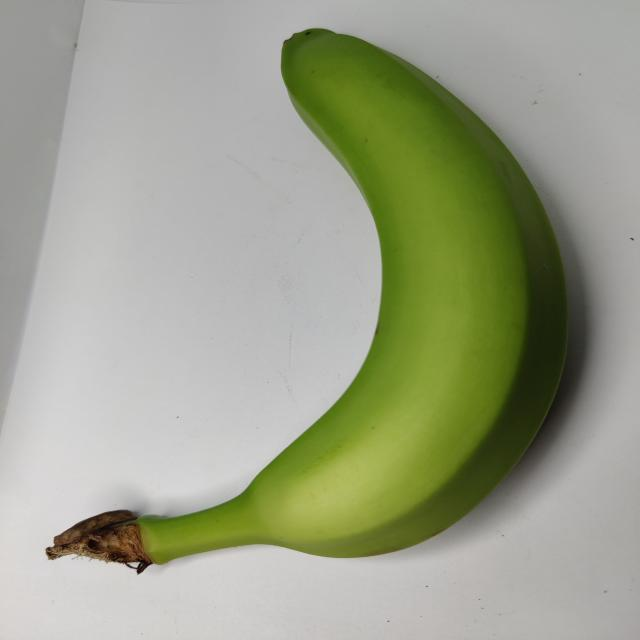raw: (60, 16, 571, 604)
